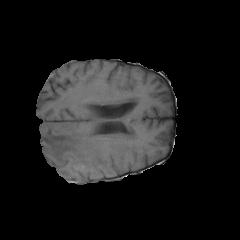glioma: (40, 96, 138, 177)
